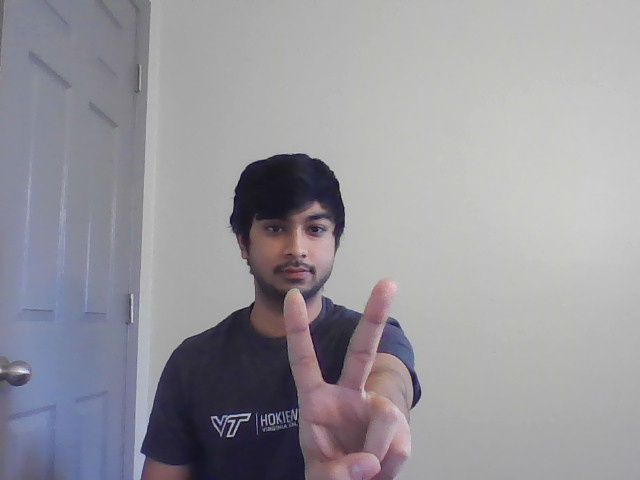two: (276, 273, 421, 480)
